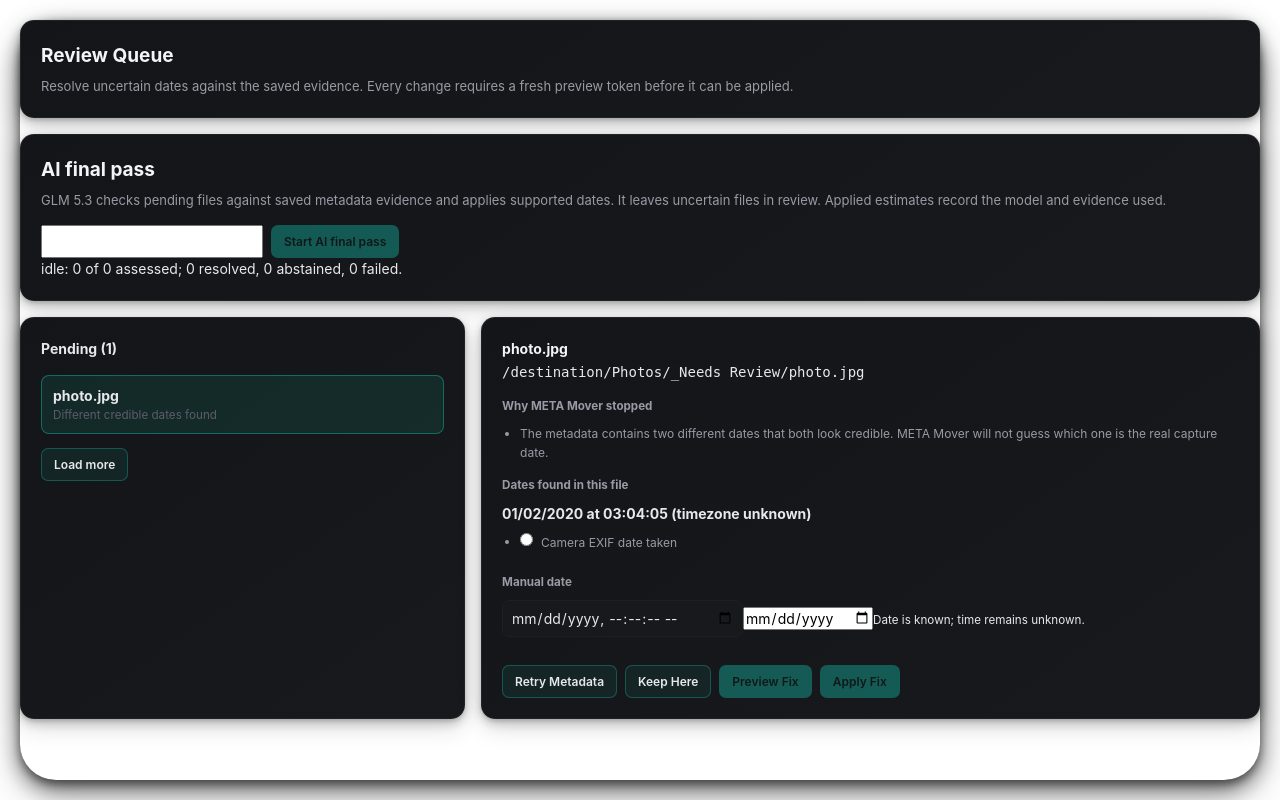
ReviewView › keeps retry-metadata pending rows visible and refreshes their evidence
The image size is (1280, 800).
Expected: the text "Camera EXIF date taken" is shown, [541,533,677,552]
Click the button "Retry Metadata": (560,681) [502,665,617,698]
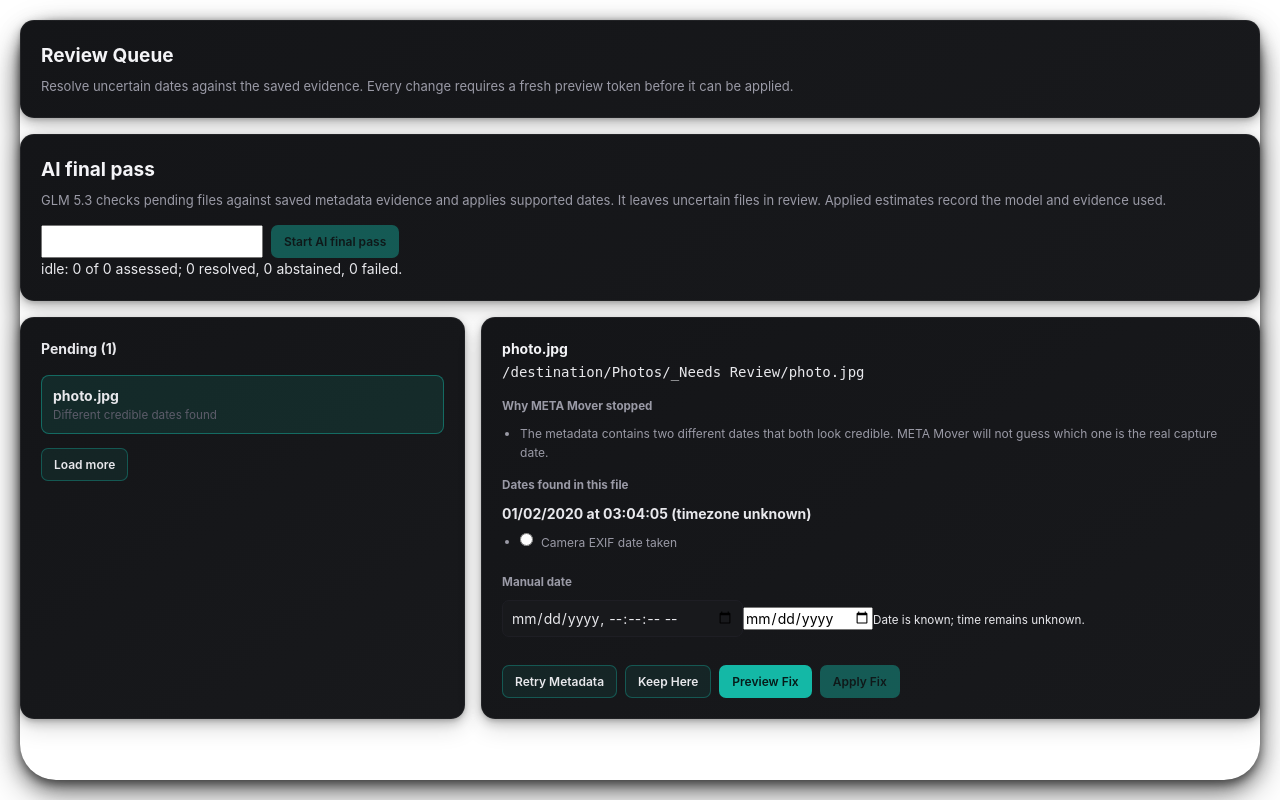
Click the button "Preview Fix": (766,681) [719,665,812,698]
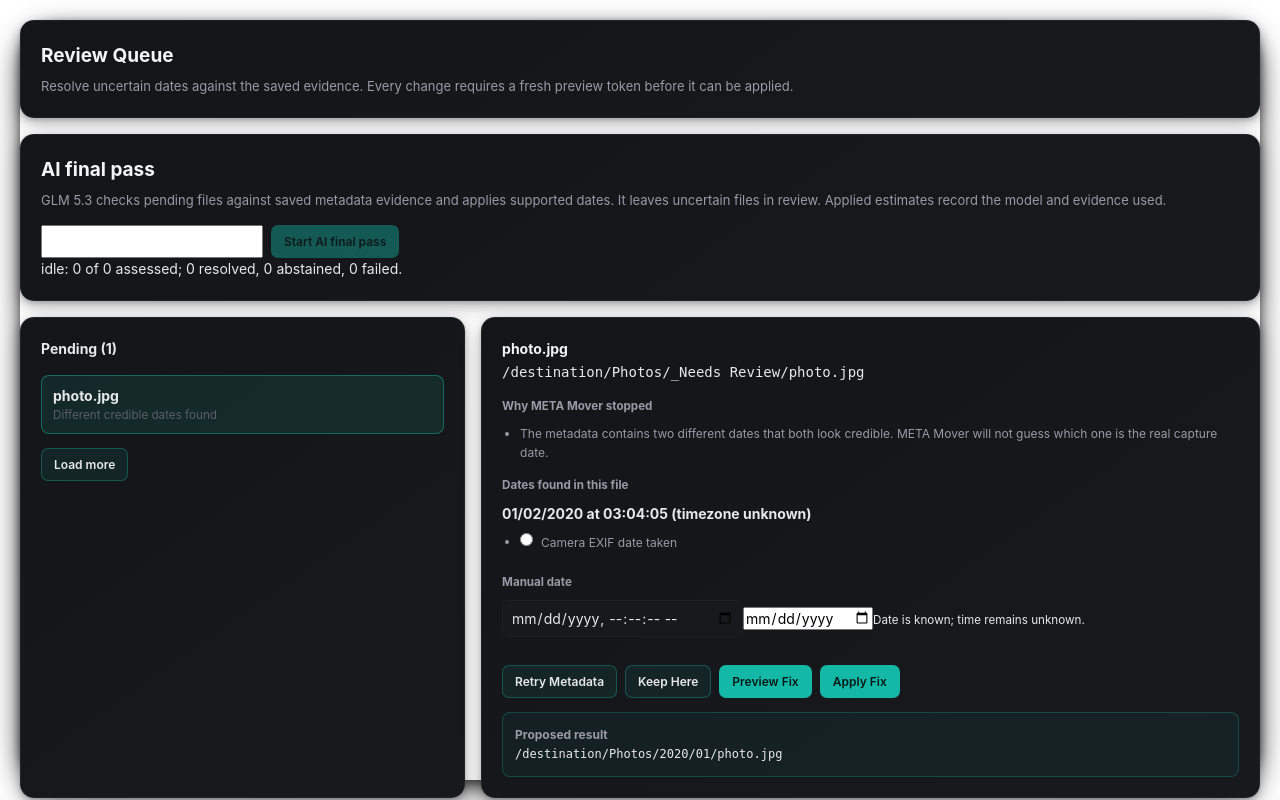
Expected: the text "/destination/Photos/_Needs Review/photo.jpg" is shown, [502,364,864,380]
Click the button "Apply Fix": (860,681) [820,665,900,698]
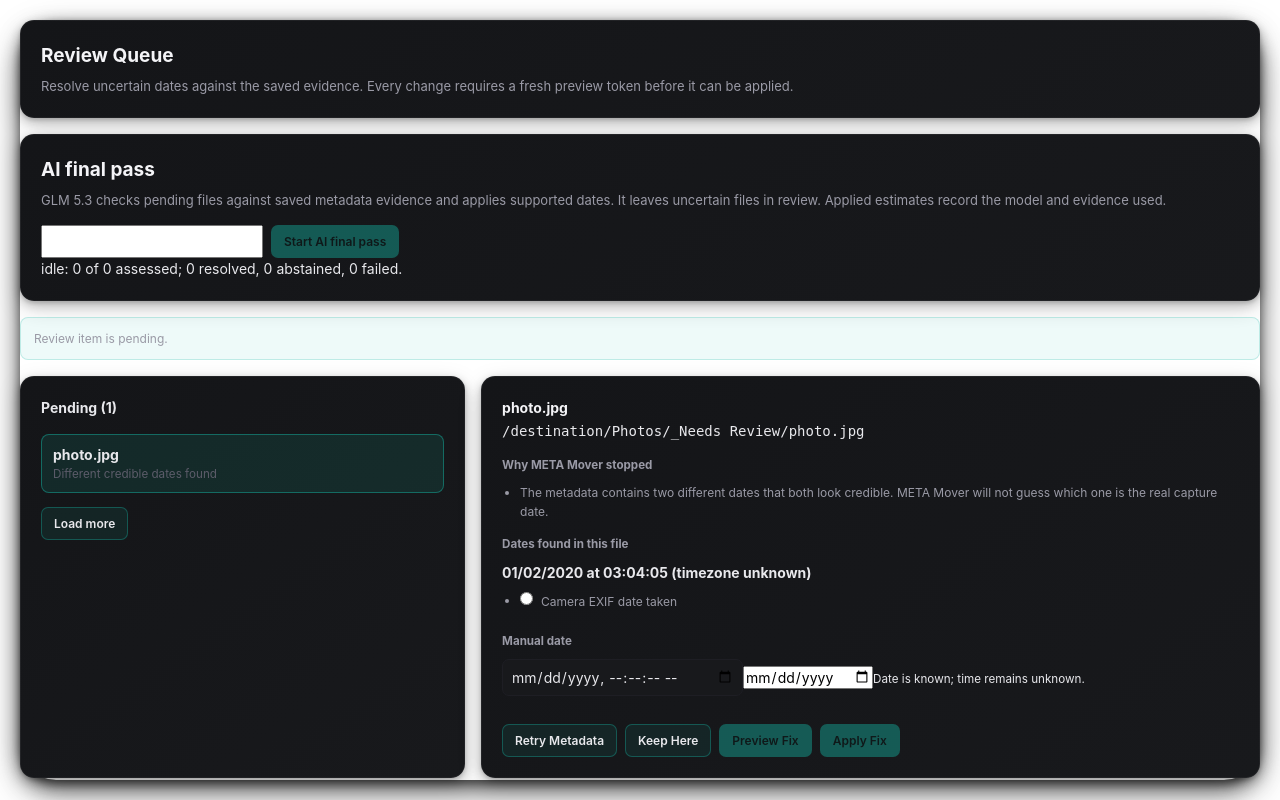
Expected: the text "photo.jpg" is shown 2 times, [53,446,119,463]; [502,399,568,416]
Expected: the text "Review item is pending." is shown, [20,317,1260,360]
